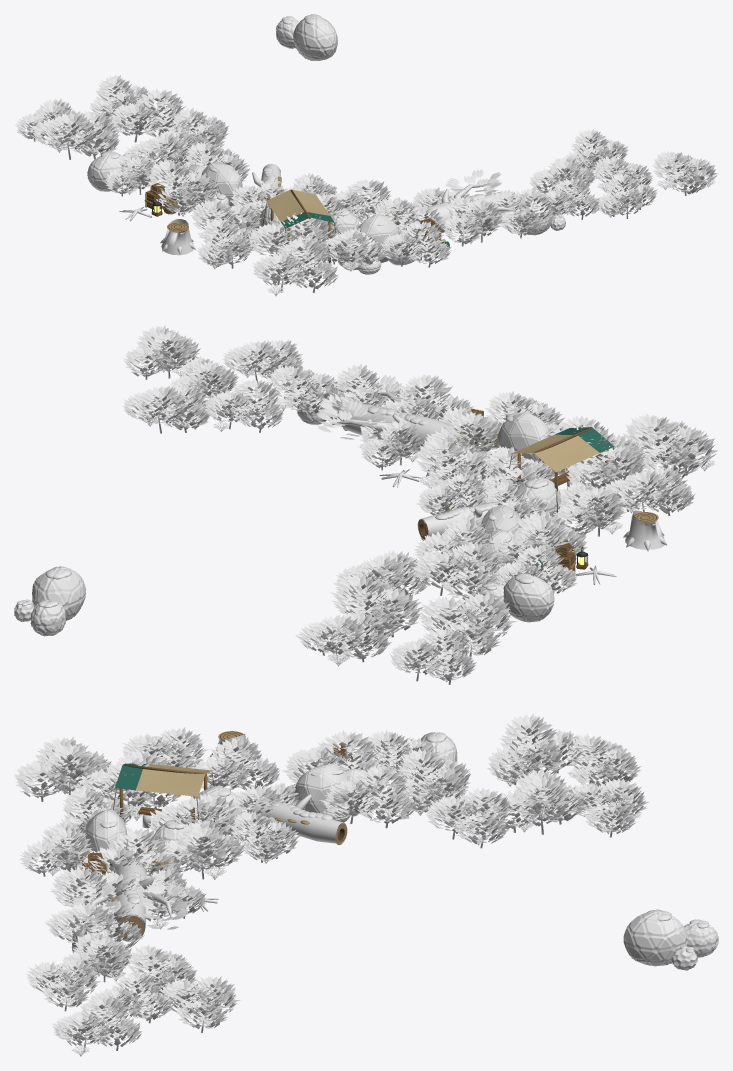
The model's file is SM_DF_Explorer_0_0_Macro.fbx.
The picture shows the model from 3 angles, top to bottom: view 1: azimuth 30°, elevation 25°; view 2: azimuth 150°, elevation 25°; view 3: azimuth 270°, elevation 25°; orthographic projection. The views are drawn at different scales.
Parts seen in each view (by area): view 1: SM_DF_Explorer_0_0_Macro; view 2: SM_DF_Explorer_0_0_Macro; view 3: SM_DF_Explorer_0_0_Macro.
Boxes of the visible parts, box(x1,y1,x2,y2) form: SM_DF_Explorer_0_0_Macro: box(15, 14, 718, 296); SM_DF_Explorer_0_0_Macro: box(14, 325, 717, 684); SM_DF_Explorer_0_0_Macro: box(14, 713, 718, 1056).
Size of the model in its own units: 2901 by 2911 by 334.
